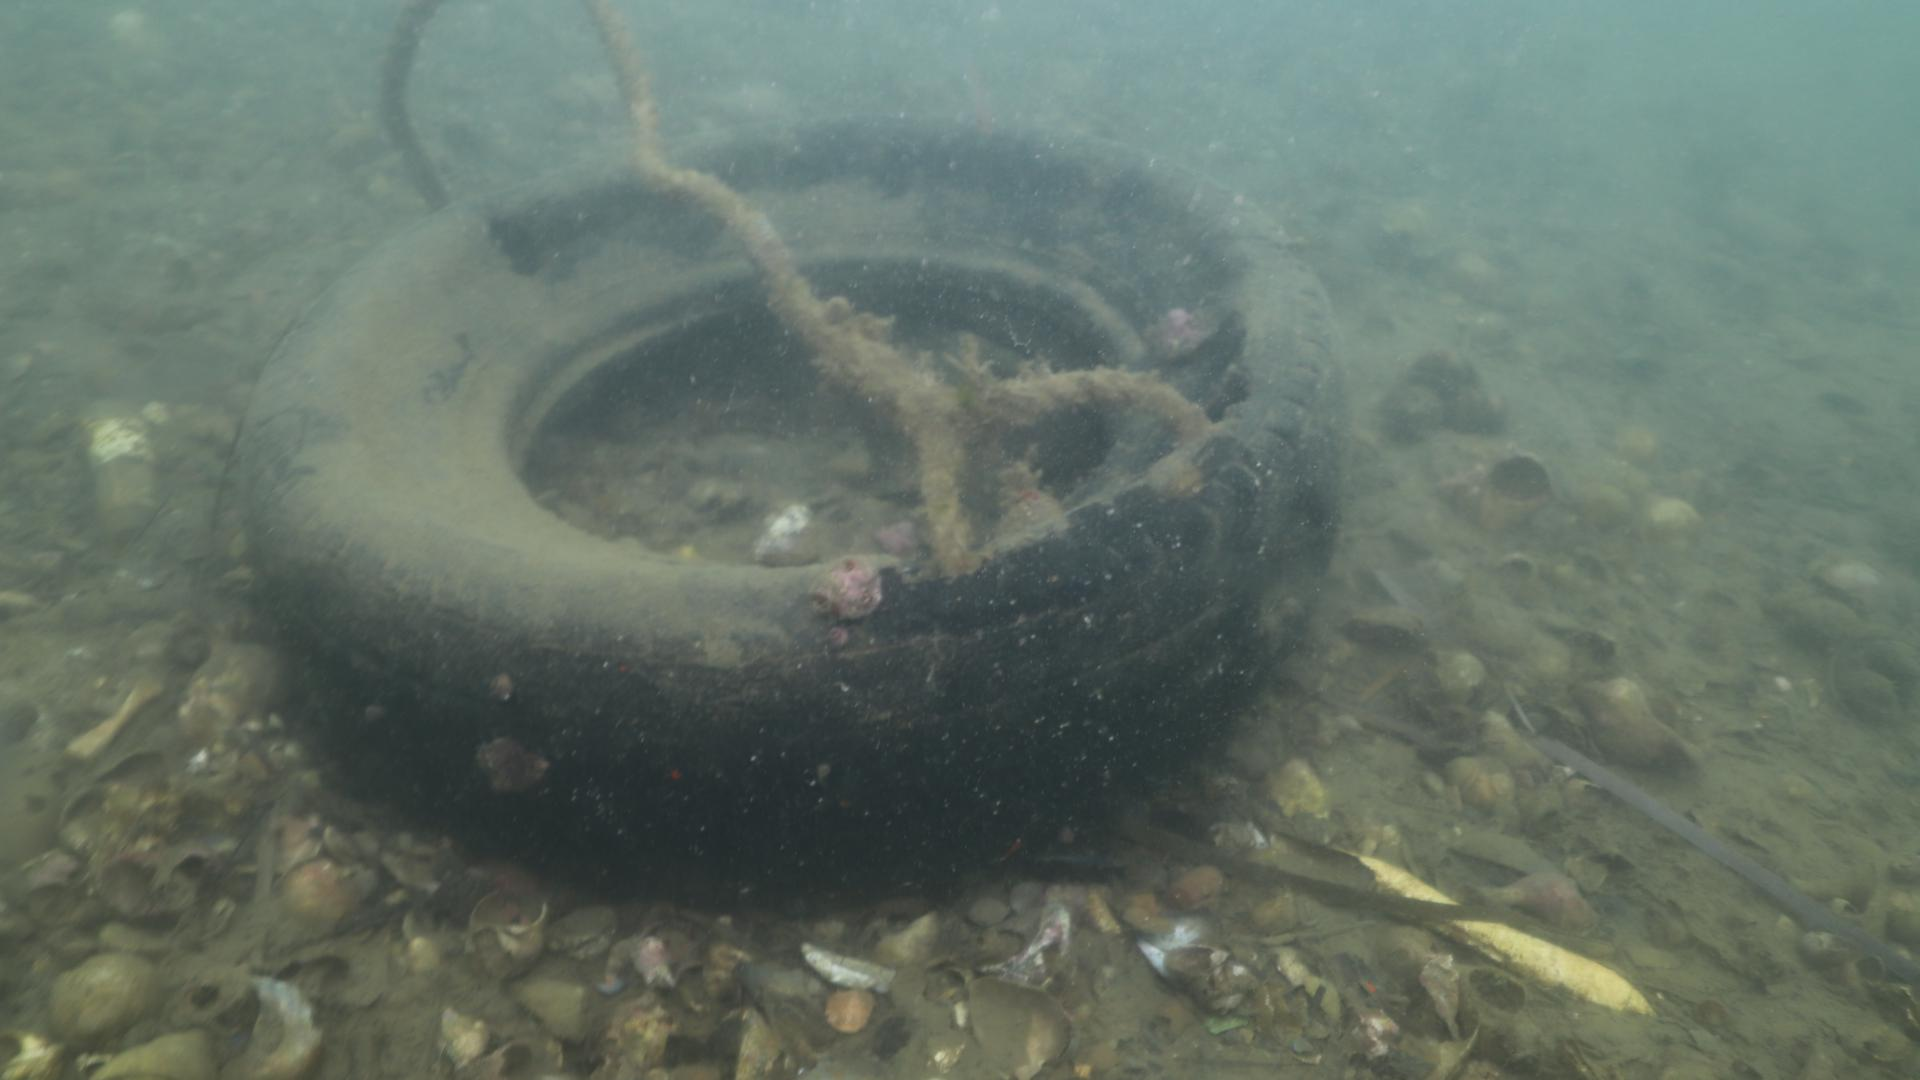rope: (378, 0, 1212, 574)
tire: (236, 113, 1341, 906)
